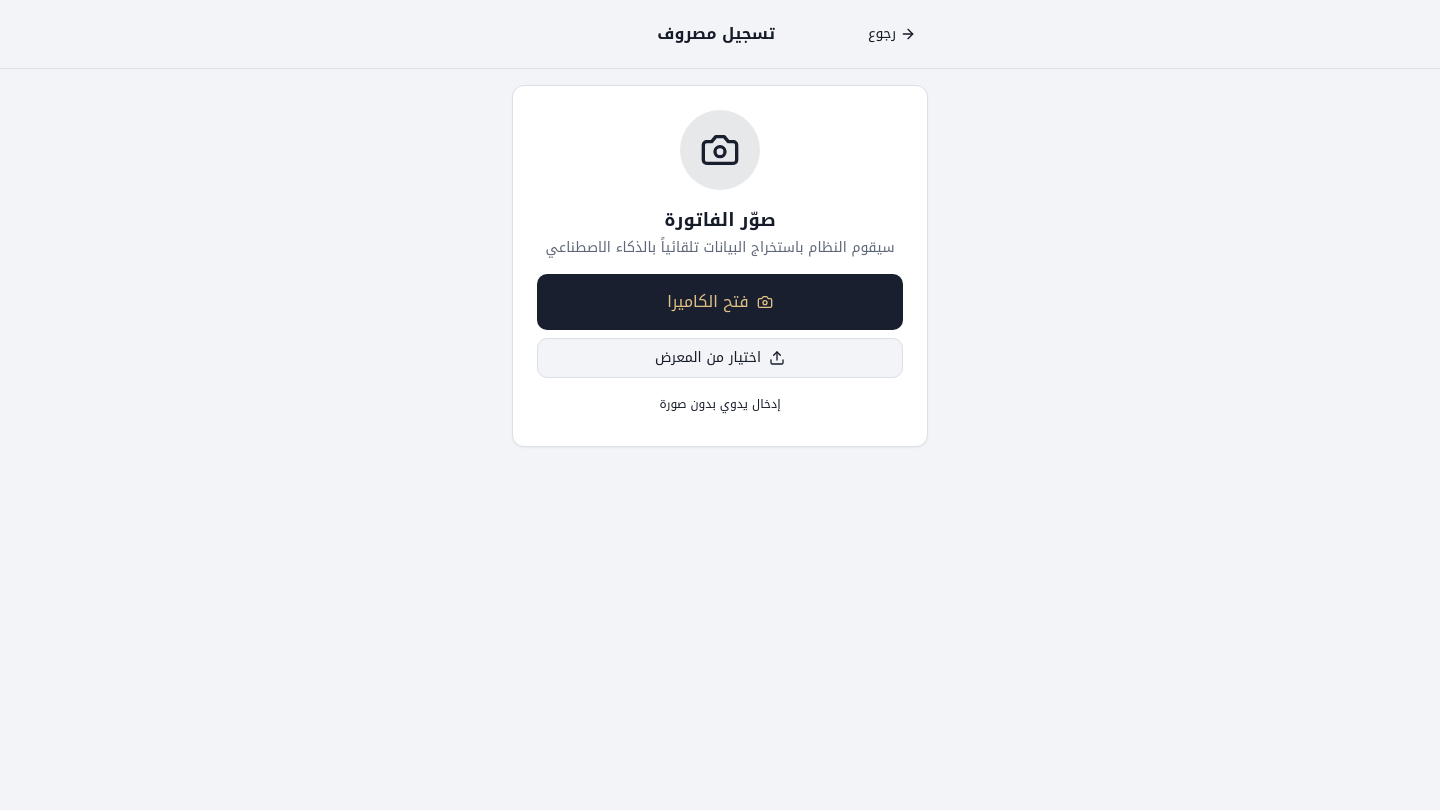
Test: reaching the form › opens on the capture step and reaches the form by hand, on the project from the link
Expected: the heading "صوّر الفاتورة" is shown, [664, 203, 776, 237]
Click the button "إدخال يدوي بدون صورة": (720, 404) [537, 386, 903, 422]
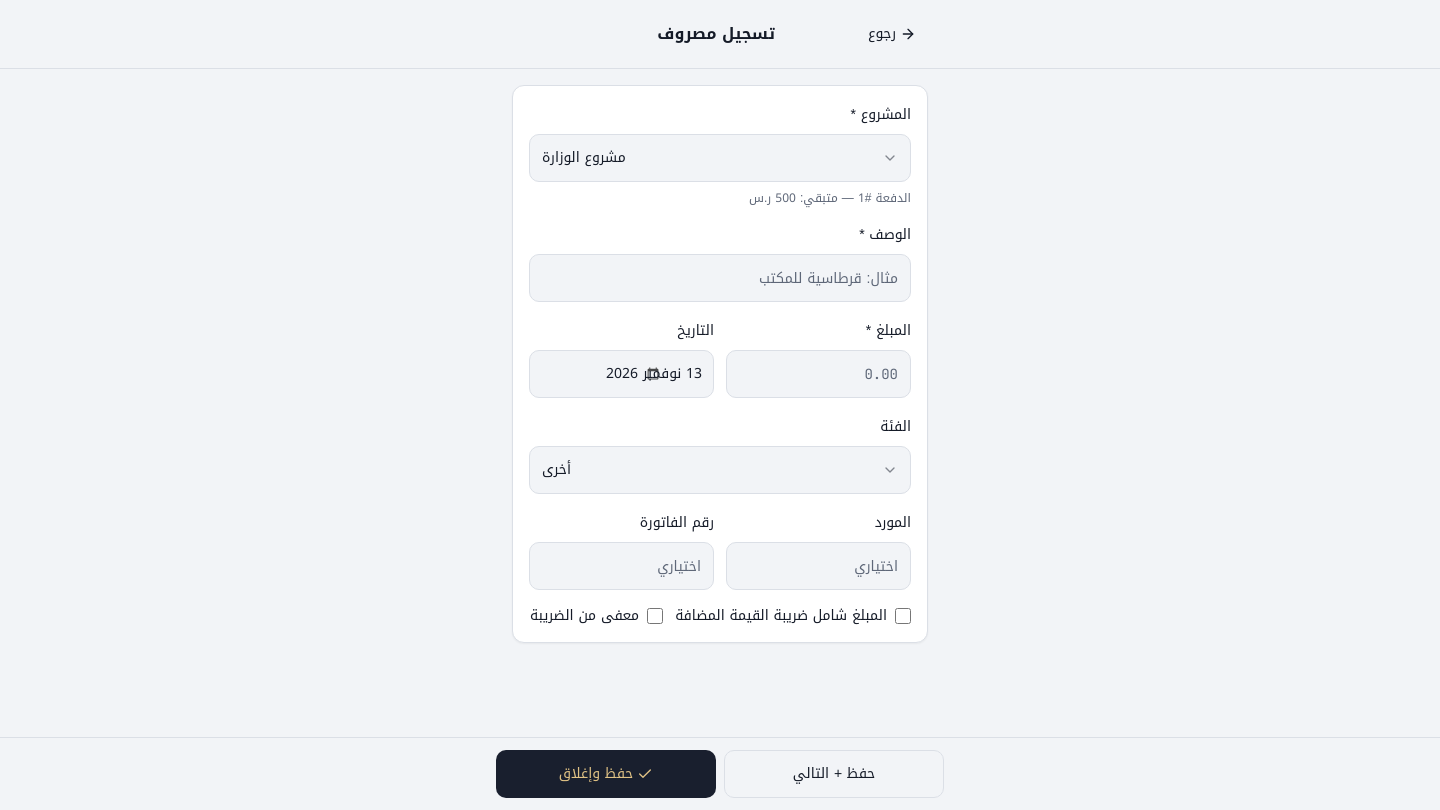
Now the text "مشروع الوزارة" is shown, box [542, 148, 626, 168]
Now the text "الدفعة #1 — متبقي: 500 ر.س" is shown, box [749, 187, 911, 209]
